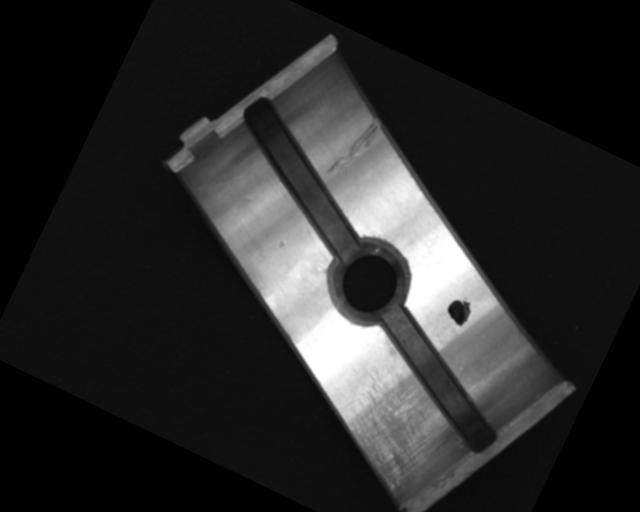blot: (441, 293, 476, 329)
bruise: (276, 235, 288, 250)
gap: (206, 95, 397, 264), (346, 301, 530, 457)
hole: (315, 228, 420, 337)
nick: (326, 107, 385, 186)
scratch: (320, 354, 467, 504)
